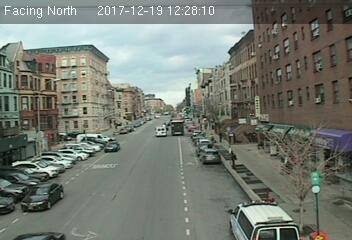car: (22, 180, 62, 208), (200, 148, 221, 163), (104, 141, 119, 152)
police: (224, 198, 297, 240)
truck: (154, 126, 167, 136)
ups: (170, 119, 185, 135)
